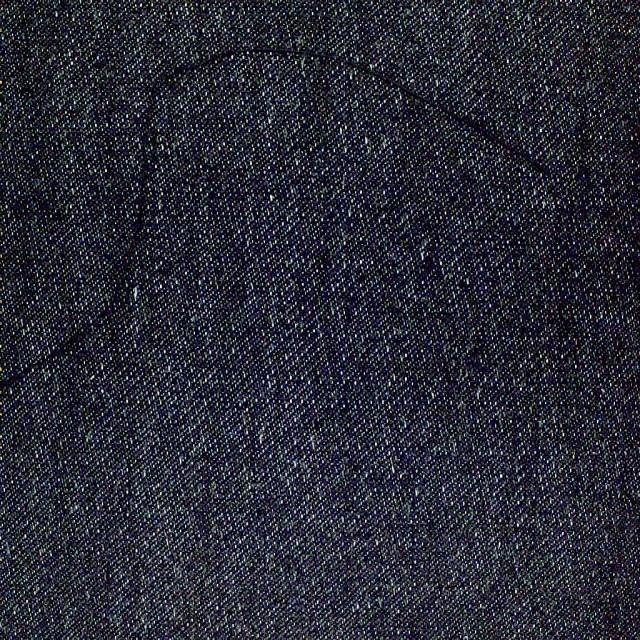defect: (0, 28, 568, 404)
